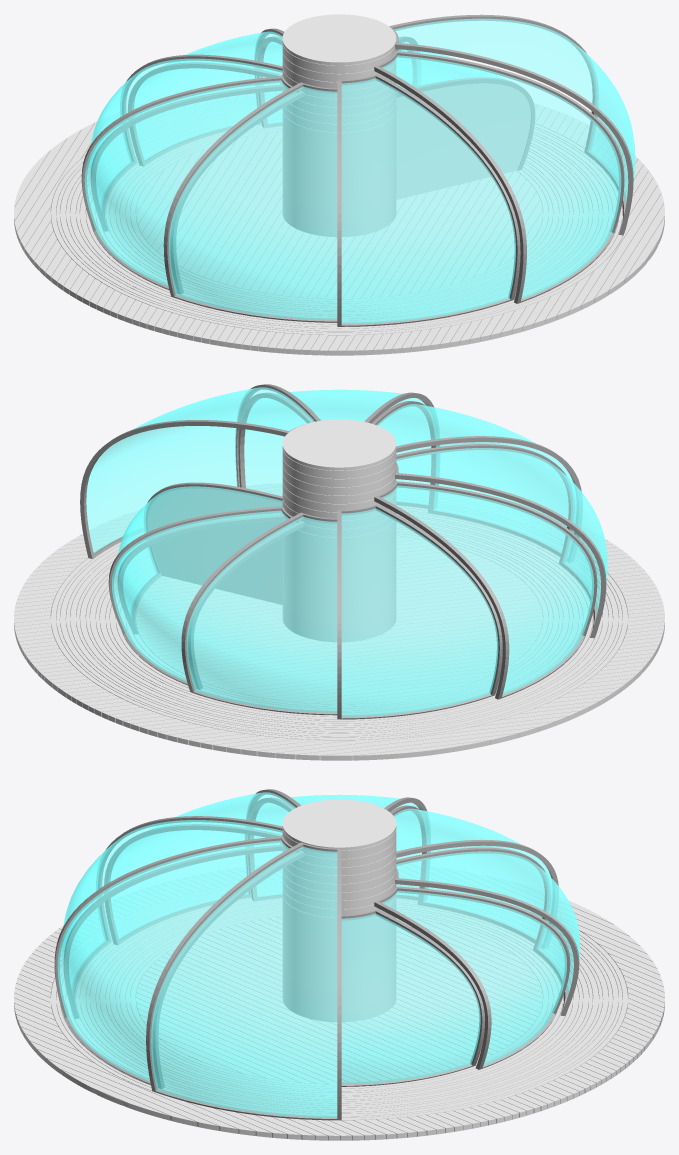
Rendered from Pavilion 1.fbx.
3 views of the same model, one above another, from view 1: azimuth 30°, elevation 25°; view 2: azimuth 150°, elevation 25°; view 3: azimuth 270°, elevation 25° (orthographic).
Parts seen in each view (by area): view 1: Platform, P3, P4, P2, Column, P5, P9, P1, P7, P6, P8; view 2: Platform, P6, P7, Column, P5, P1, P8, P9, P3, P4, P2; view 3: Platform, P1, P2, Column, P9, P8, P4, P3, P6, P7, P5.
Boxes of the visible parts, bbox=[...] form: Platform: bbox=[14, 91, 664, 355]; P3: bbox=[337, 74, 520, 326]; P4: bbox=[163, 82, 337, 322]; P2: bbox=[374, 51, 624, 303]; Column: bbox=[282, 14, 396, 236]; P5: bbox=[81, 76, 304, 294]; P9: bbox=[396, 49, 534, 199]; P1: bbox=[389, 14, 635, 235]; P7: bbox=[128, 28, 284, 166]; P6: bbox=[90, 54, 283, 231]; P8: bbox=[257, 36, 419, 127]; Platform: bbox=[14, 483, 664, 760]; P6: bbox=[337, 504, 502, 719]; P7: bbox=[181, 512, 337, 715]; Column: bbox=[282, 419, 396, 641]; P5: bbox=[374, 481, 597, 699]; P1: bbox=[80, 384, 320, 558]; P8: bbox=[108, 506, 304, 689]; P9: bbox=[117, 482, 283, 634]; P3: bbox=[372, 401, 582, 562]; P4: bbox=[395, 444, 607, 638]; P2: bbox=[238, 389, 439, 508]; Platform: bbox=[14, 864, 664, 1140]; P1: bbox=[146, 842, 341, 1120]; P2: bbox=[54, 836, 304, 1088]; Column: bbox=[282, 799, 396, 1021]; P9: bbox=[341, 909, 484, 1086]; P8: bbox=[374, 886, 570, 1069]; P4: bbox=[104, 789, 300, 944]; P3: bbox=[62, 816, 283, 1018]; P6: bbox=[390, 805, 558, 948]; P7: bbox=[395, 847, 579, 1015]; P5: bbox=[248, 794, 430, 900].
Bounding box in the file's own units: 1200 × 365 × 1200.
